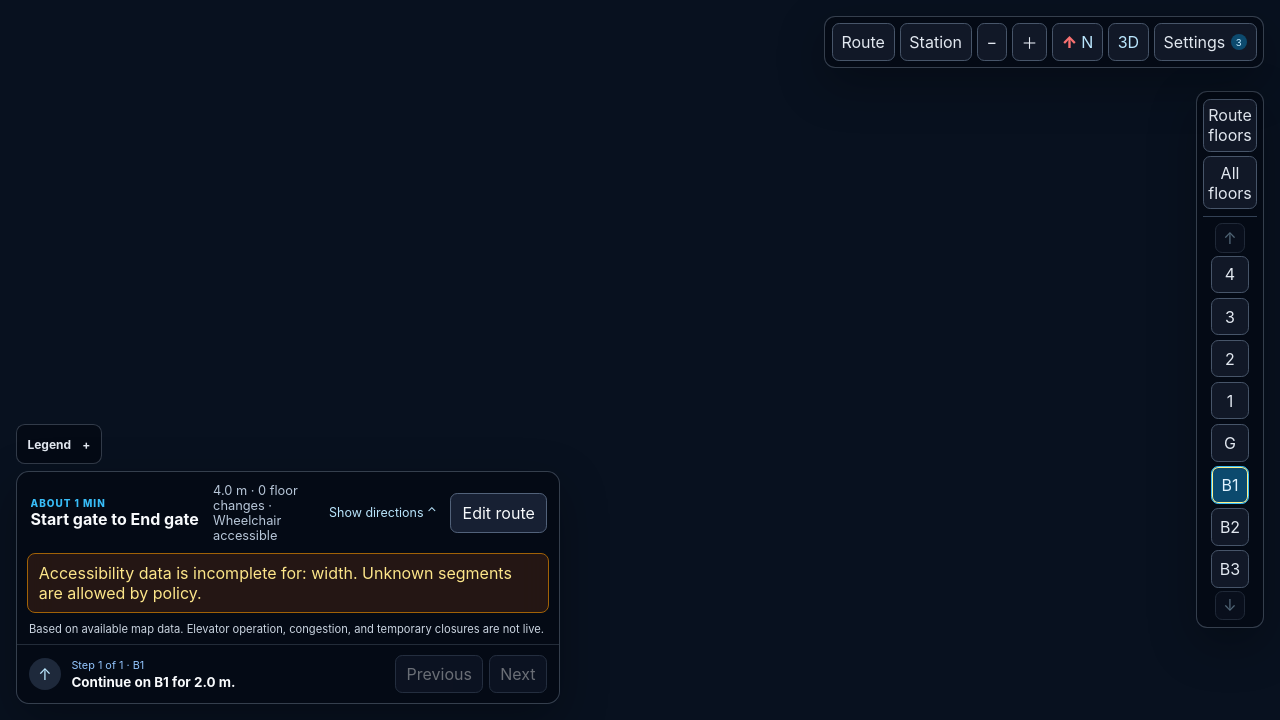
Scenario: viewer controls › keeps only one major overlay expanded on narrow screens
Click the button "Edit route" at (499, 513), box [450,493,547,533]
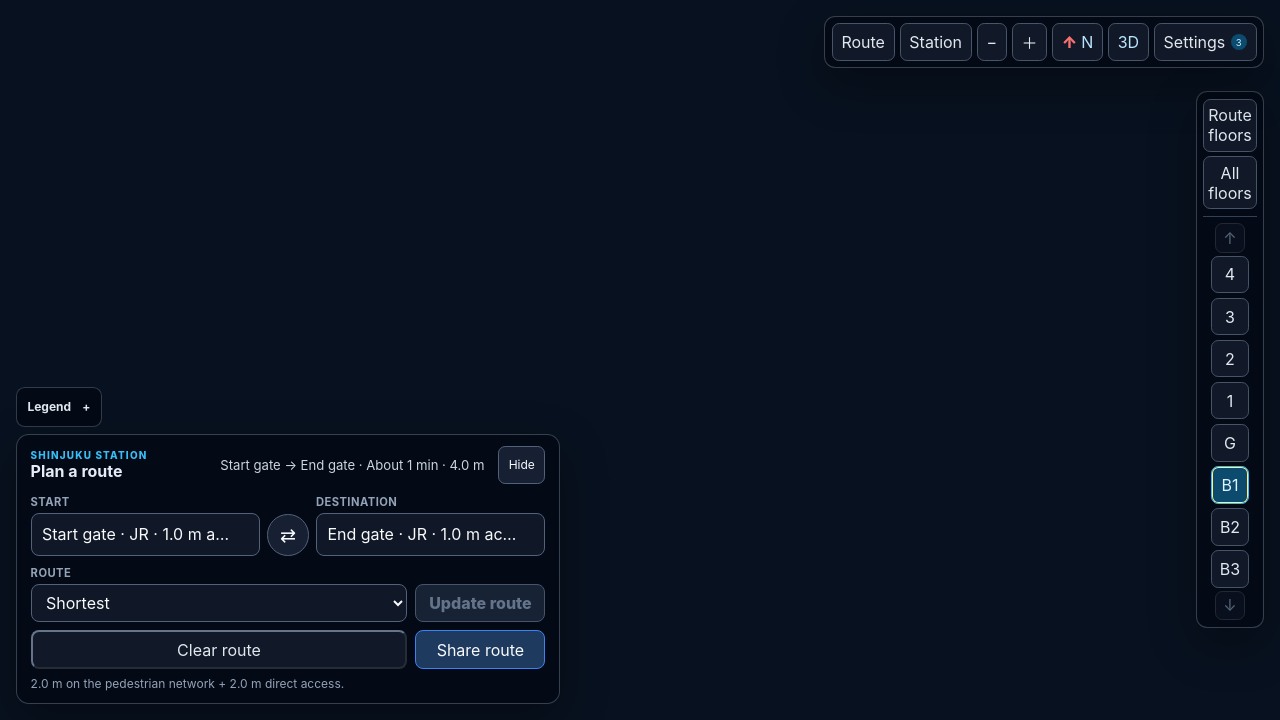
Check: the dropdown named "Search start place" is shown, box [31,513,260,556]
Check: the button "Show directions" is gone
Click the button with aria-label "Hide planner" at (522, 465), box [498,446,545,484]
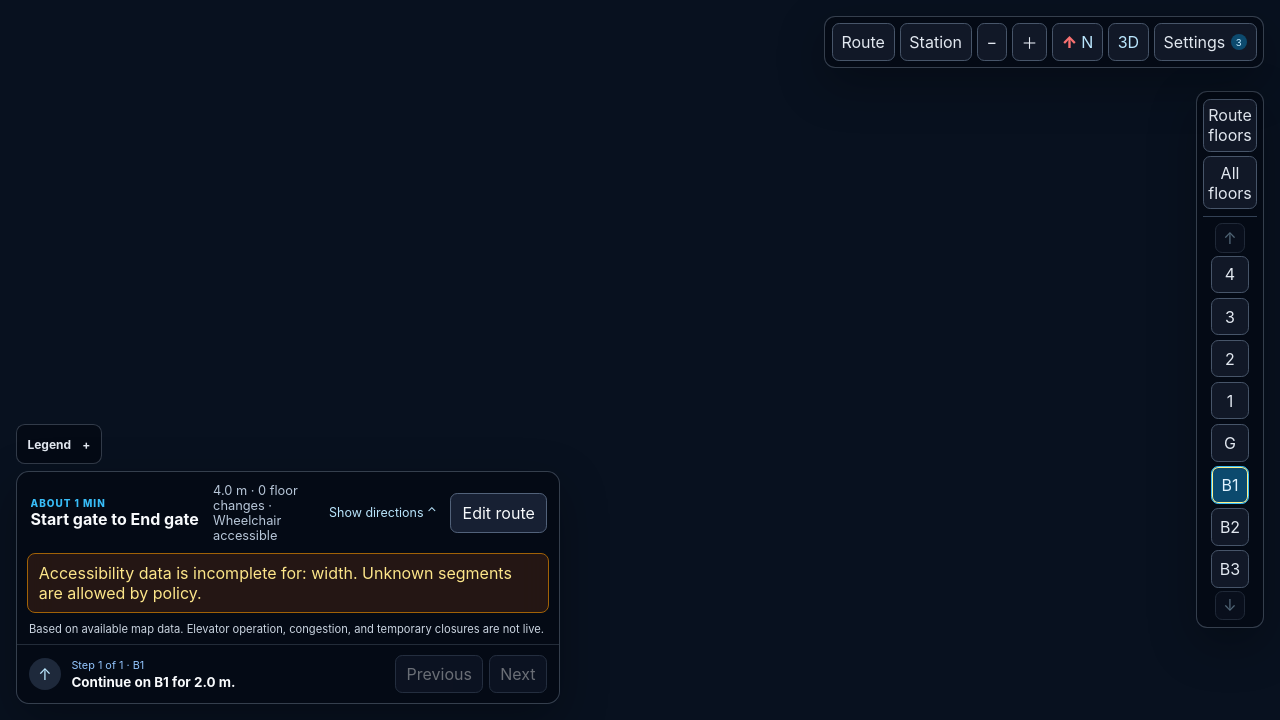
Click the button named "Show directions" at (234, 513), box [17,472,450,553]
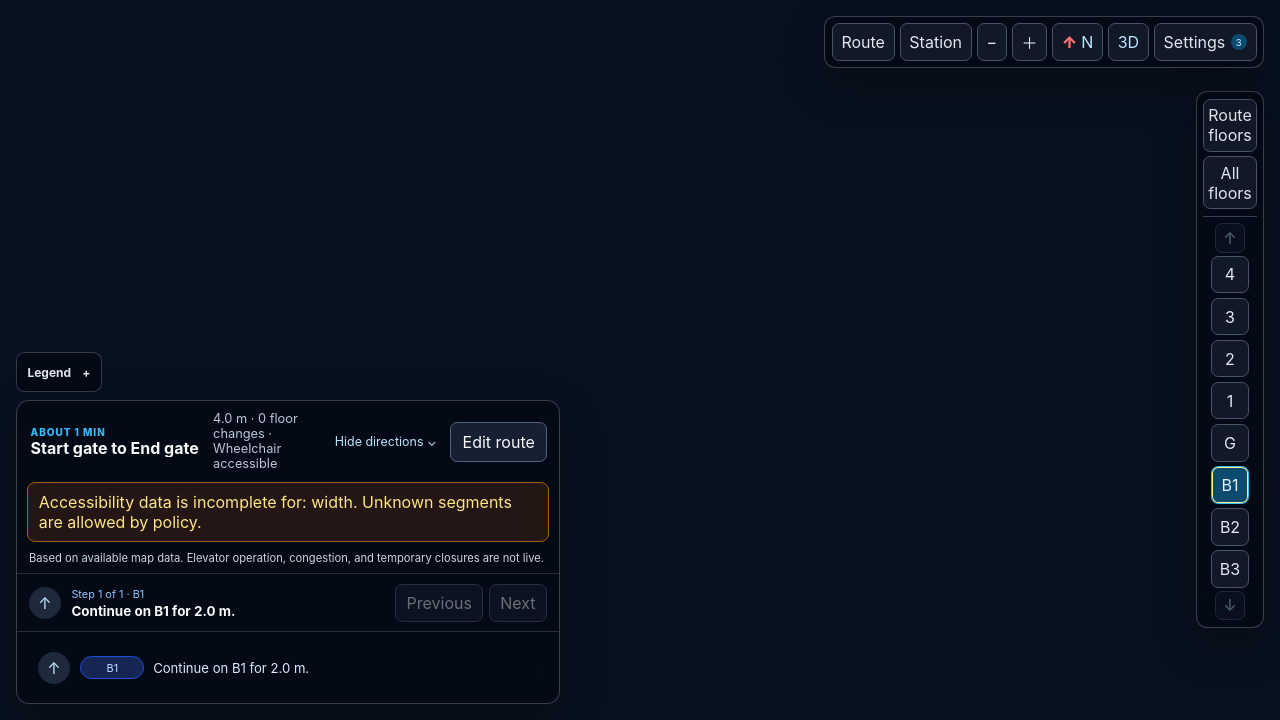
Check: the button named "Hide directions" is shown, box [17,401,450,482]
Click the heading named "Map settings" at (1205, 42), box [1154,23,1257,61]
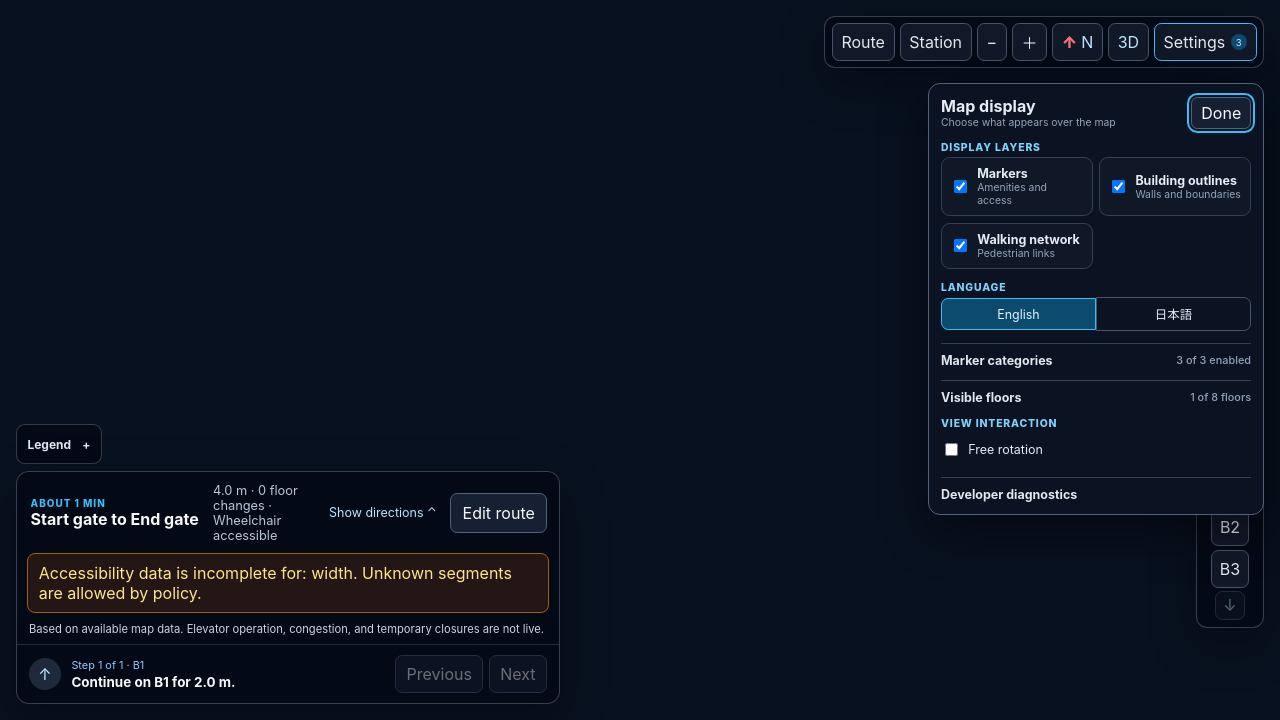
Check: the button named "Show directions" is shown, box [17,472,450,553]
Check: the element "Display layers" is shown, box [941,141,1251,269]
